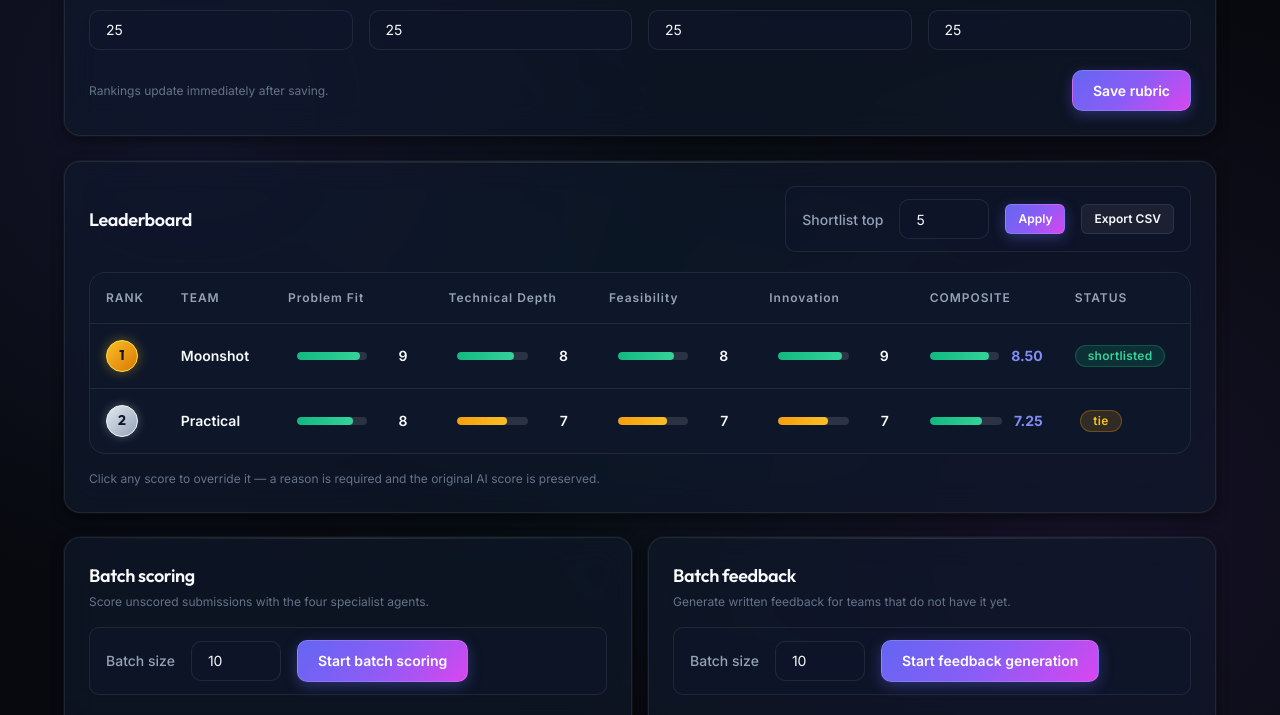
Test: DashboardPage › opens the override modal with the clicked score pre-filled
The image size is (1280, 715).
(page scrolled)
// Moonshot's problem_fit score cell (value 9).
Click the 1st button titled "Override problem fit for Moonshot".
click(352, 356)  # box [288,341,416,370]
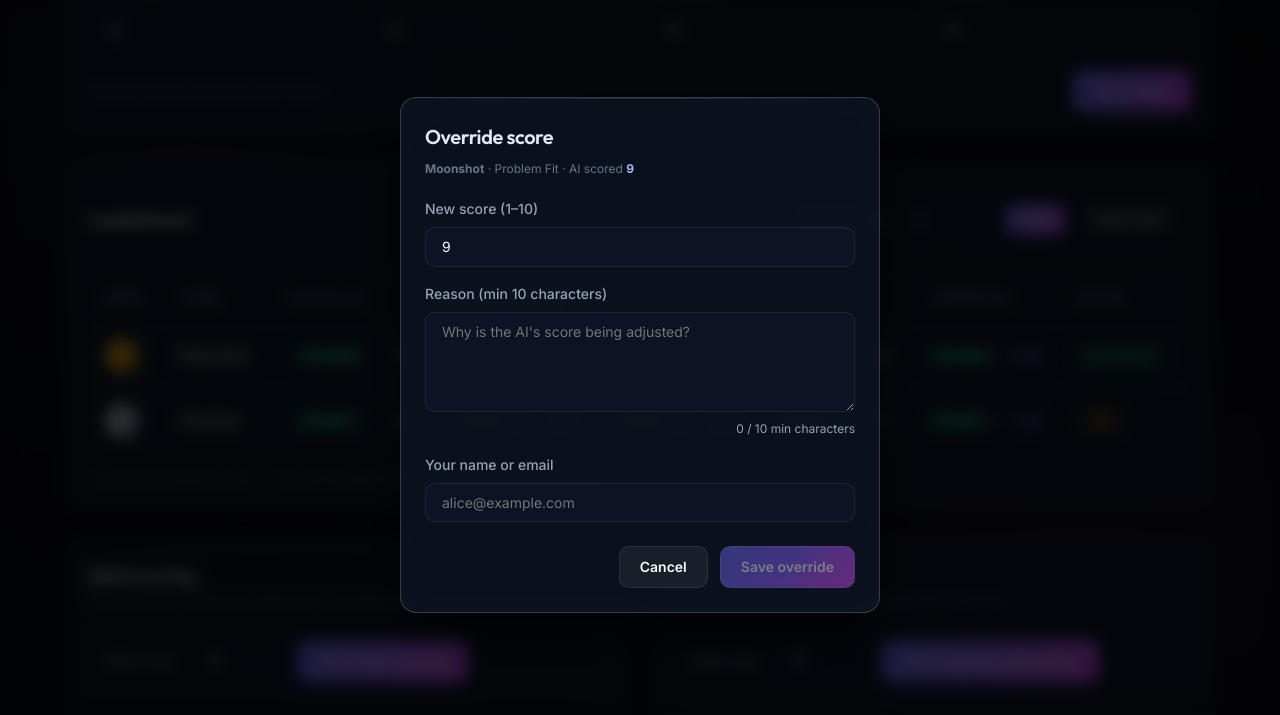
Expected: the dialog shows "Moonshot", [425,161,484,176]
Expected: the dialog shows "problem fit", [494,161,559,176]
Expected: the dialog shows "AI scored 9", [400,97,880,613]
